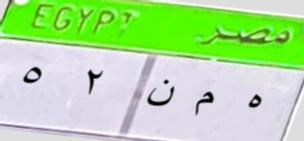2: (84, 64, 106, 99)
5: (19, 61, 45, 94)
haa: (241, 88, 266, 114)
meem: (191, 88, 216, 118)
noon: (144, 76, 175, 114)
